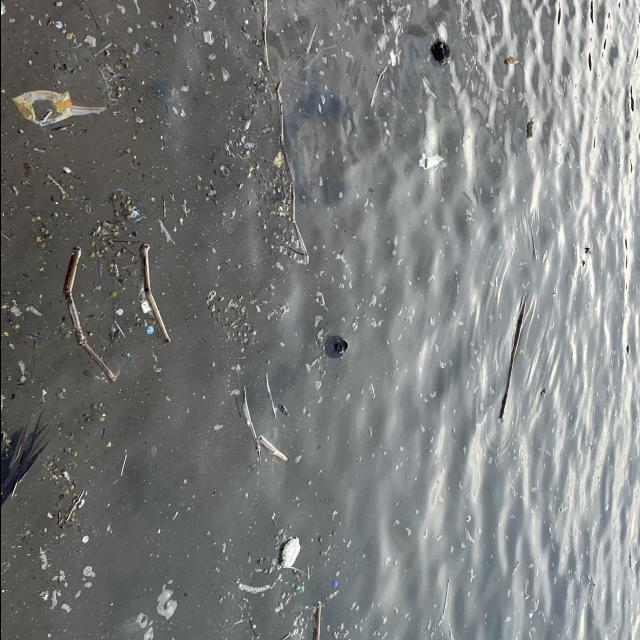foam: (281, 538, 301, 570), (528, 123, 536, 140)
